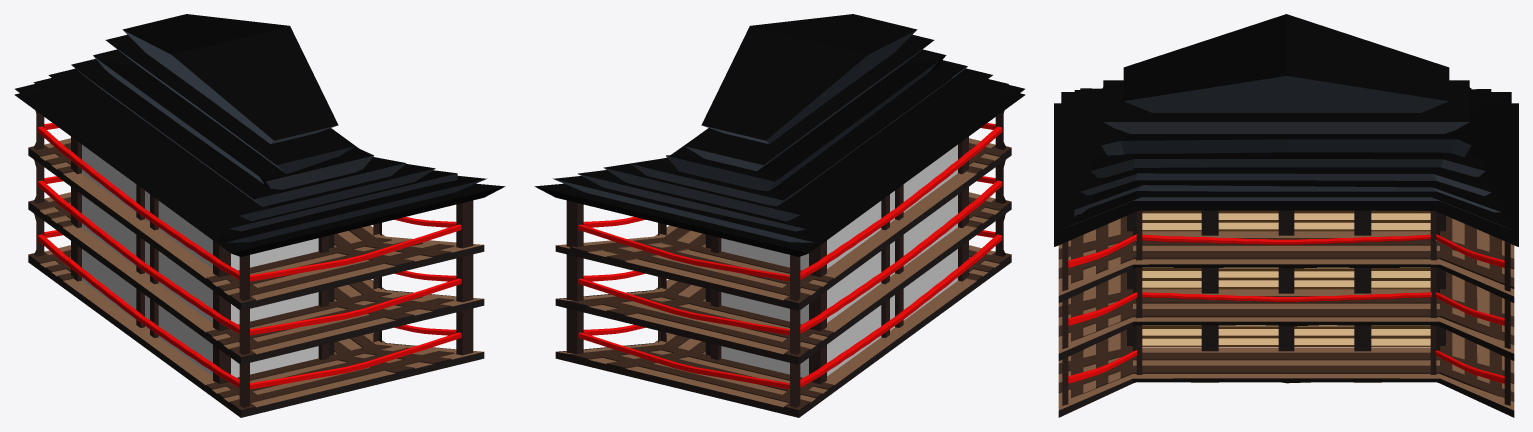
Rendered from RukoCinaAngker98.fbx.
3 renders of one model, left to right at view 1: azimuth 30°, elevation 25°; view 2: azimuth 150°, elevation 25°; view 3: azimuth 270°, elevation 25°, orthographic. The views are drawn at different scales.
Parts seen in each view (by area): view 1: Cube; view 2: Cube; view 3: Cube.
Boxes of the visible parts, bbox=[...] form: Cube: bbox=[14, 14, 505, 417]; Cube: bbox=[534, 14, 1025, 417]; Cube: bbox=[1054, 14, 1518, 417].
Bounding box in the file's own units: 27030 × 25775 × 36511.
